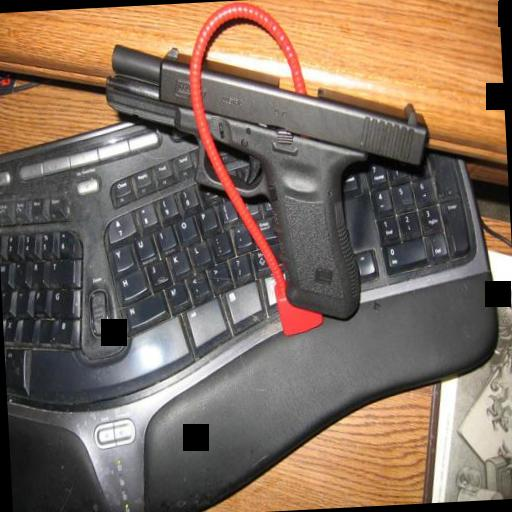Handgun: (100, 18, 440, 334)
